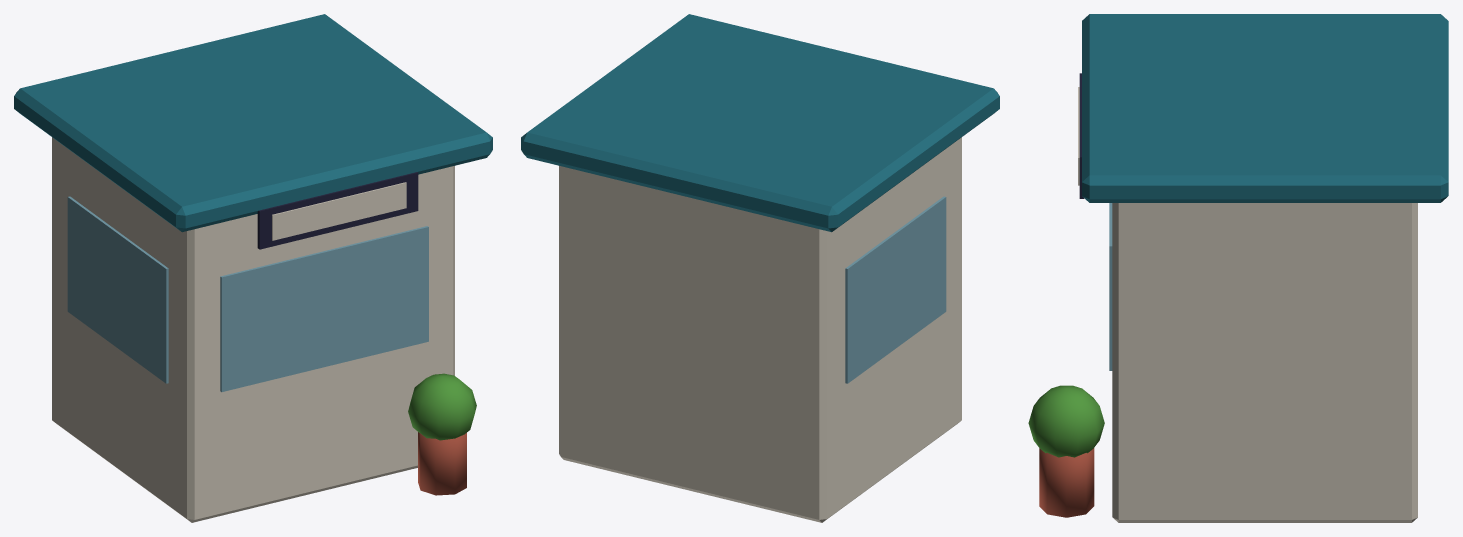
File: booth.glb
The picture shows the model from 3 angles, left to right: view 1: azimuth 30°, elevation 25°; view 2: azimuth 150°, elevation 25°; view 3: azimuth 270°, elevation 25°; orthographic projection. The views are drawn at different scales.
Visible parts, largest first — view 1: booth; view 2: booth; view 3: booth.
Boxes of the visible parts, x1,y1,x2,y2 form: booth: (14, 14, 492, 522); booth: (521, 14, 999, 522); booth: (1028, 14, 1448, 522).
Size of the model in its own units: 2.6 by 2.6 by 2.75.
